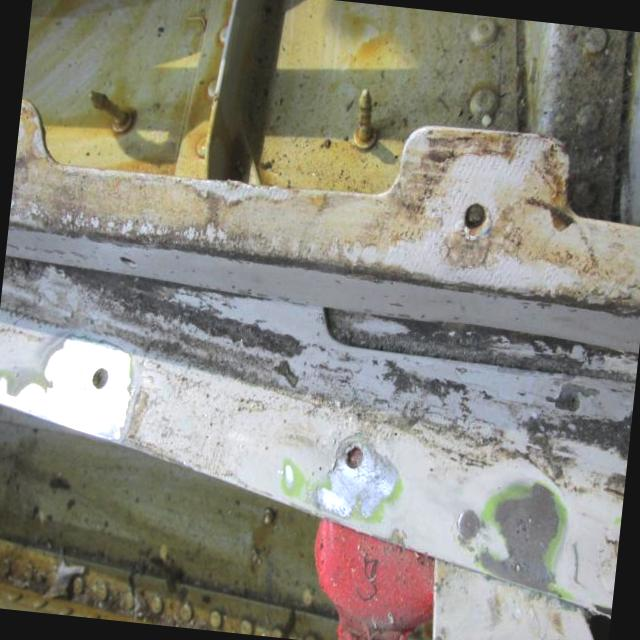Missing Fastener: (458, 194, 498, 242), (336, 428, 376, 476), (88, 358, 114, 393), (115, 248, 138, 275)
